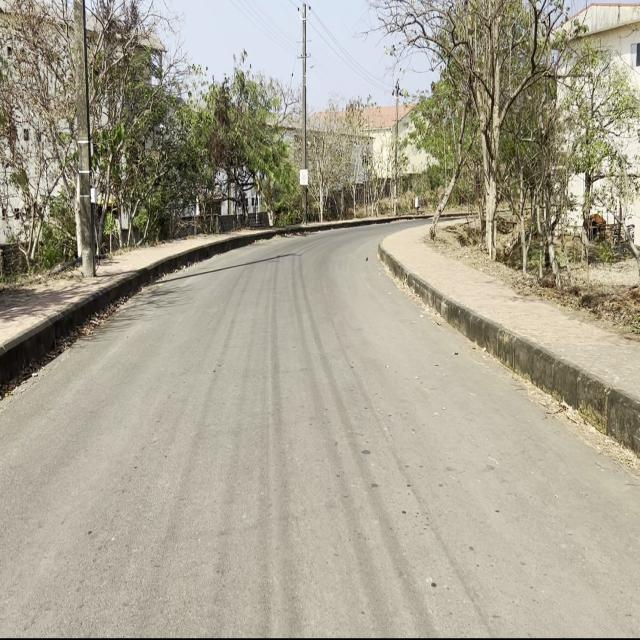Road: (2, 226, 638, 633)
